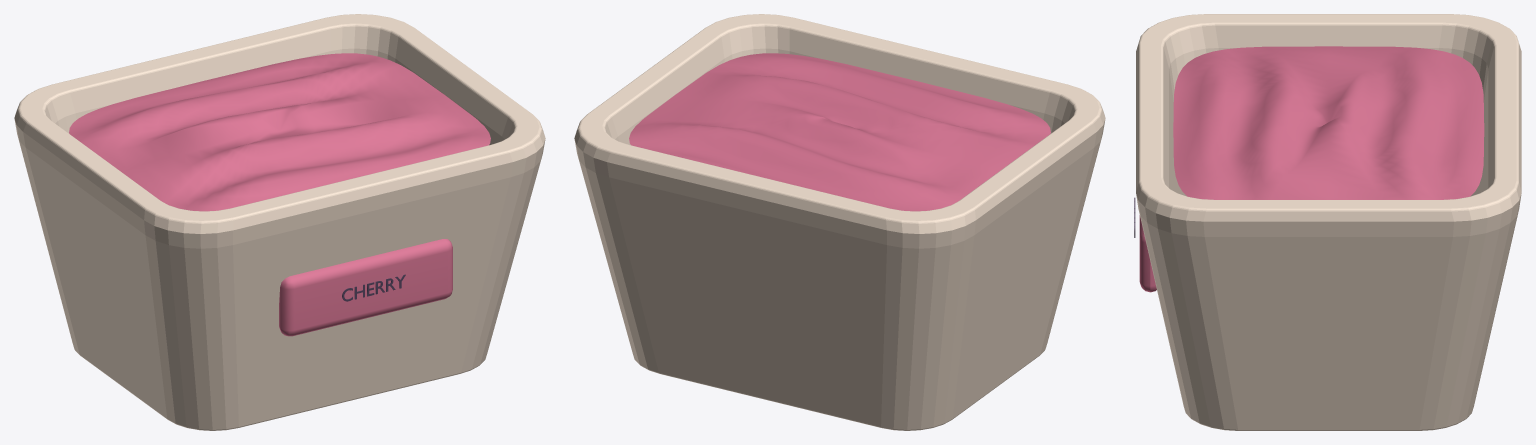
File: Cherry_tub.fbx
3 views of the same model, side by side, from view 1: azimuth 30°, elevation 25°; view 2: azimuth 150°, elevation 25°; view 3: azimuth 270°, elevation 25° (orthographic). The views are drawn at different scales.
Visible parts, largest first — view 1: Toon_Cherry_tub Rounded reusable tub.001, Toon_Cherry_tub Ice cream fill.001, Toon_Cherry_tub Flavor badge.001; view 2: Toon_Cherry_tub Rounded reusable tub.001, Toon_Cherry_tub Ice cream fill.001; view 3: Toon_Cherry_tub Rounded reusable tub.001, Toon_Cherry_tub Ice cream fill.001, Toon_Cherry_tub Flavor badge.001.
Part boxes in pixels (x1,y1,x2,y2): Toon_Cherry_tub Rounded reusable tub.001: (14,14,545,430); Toon_Cherry_tub Ice cream fill.001: (69,53,490,211); Toon_Cherry_tub Flavor badge.001: (279,239,452,336); Toon_Cherry_tub Rounded reusable tub.001: (574,14,1105,430); Toon_Cherry_tub Ice cream fill.001: (629,53,1050,211); Toon_Cherry_tub Rounded reusable tub.001: (1136,14,1521,430); Toon_Cherry_tub Ice cream fill.001: (1173,46,1484,199); Toon_Cherry_tub Flavor badge.001: (1139,215,1156,292).
Size of the model in its own units: 39 by 22.17 by 32.14.
